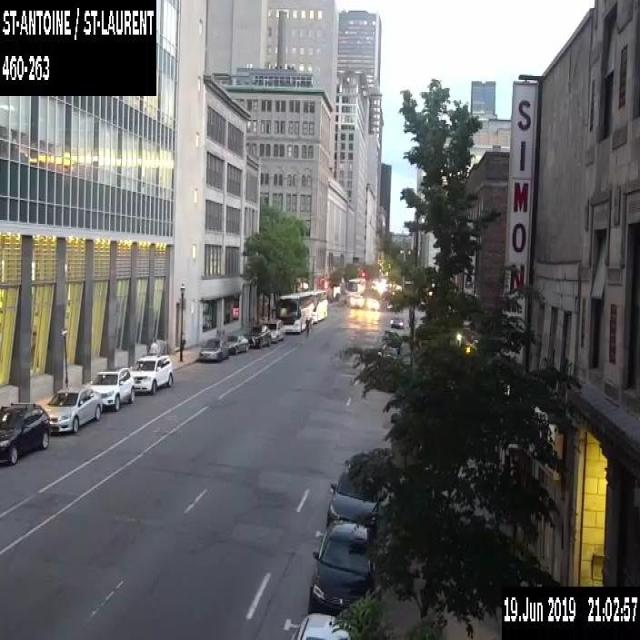bus: (275, 288, 327, 332), (347, 276, 365, 296)
pedestrian: (149, 337, 157, 352), (304, 315, 309, 335), (308, 315, 313, 335)
vehicle: (308, 518, 377, 614), (325, 463, 379, 529), (0, 402, 48, 463), (43, 385, 102, 433), (88, 365, 134, 410), (129, 353, 173, 393), (293, 611, 355, 639), (199, 336, 228, 361), (243, 323, 270, 348), (262, 318, 284, 342), (224, 332, 248, 353), (349, 294, 364, 308), (366, 297, 378, 309), (390, 316, 402, 328), (386, 300, 392, 308)
